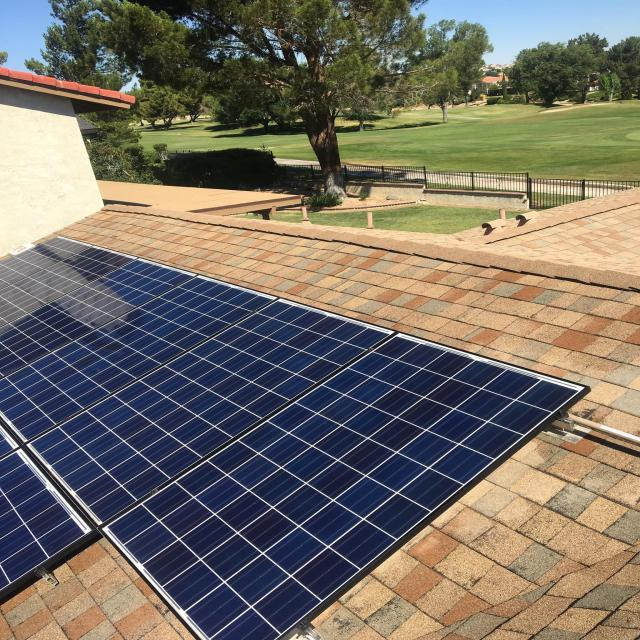clean-solar-panel: (0, 236, 588, 640)
